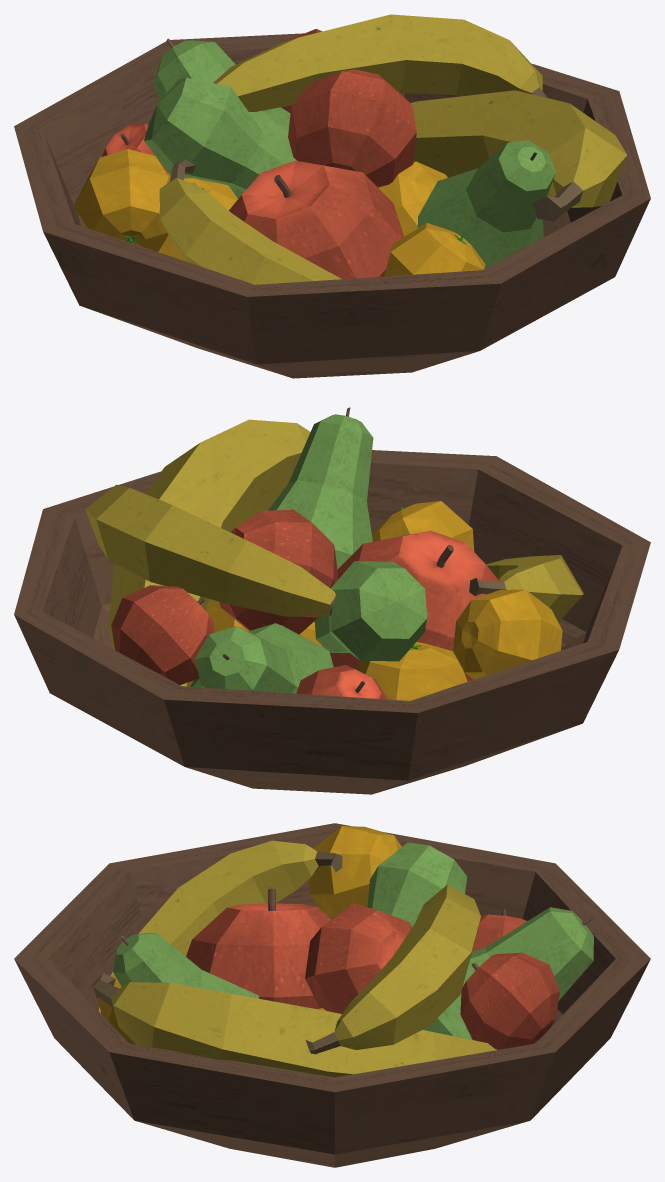
The model's file is 静物_水果_Low Poly Fruit Bowl_opt.glb.
3 views of the same model, one above another, from view 1: azimuth 30°, elevation 25°; view 2: azimuth 150°, elevation 25°; view 3: azimuth 270°, elevation 25° (orthographic). The views are drawn at different scales.
Parts seen in each view (by area): view 1: wire_229154215, wire_224086086, wire_177027088, wire_143225087, wire_088199225; view 2: wire_229154215, wire_224086086, wire_143225087, wire_177027088, wire_088199225; view 3: wire_229154215, wire_224086086, wire_177027088, wire_143225087, wire_088199225.
Part boxes in pixels (x1,y1,x2,y2): wire_229154215: (14, 33, 650, 378); wire_224086086: (159, 14, 627, 284); wire_177027088: (102, 29, 416, 279); wire_143225087: (144, 38, 555, 268); wire_088199225: (73, 149, 485, 276); wire_229154215: (14, 450, 650, 794); wire_224086086: (85, 419, 583, 686); wire_143225087: (190, 407, 427, 693); wire_177027088: (111, 509, 499, 699); wire_088199225: (205, 501, 562, 700); wire_229154215: (14, 823, 650, 1167); wire_224086086: (92, 840, 497, 1077); wire_177027088: (186, 888, 559, 1049); wire_143225087: (113, 842, 593, 1039); wire_088199225: (98, 826, 401, 1044).
Size of the model in its own units: 0.6906 by 0.3 by 0.6906.
5 materials, 5 textured.
